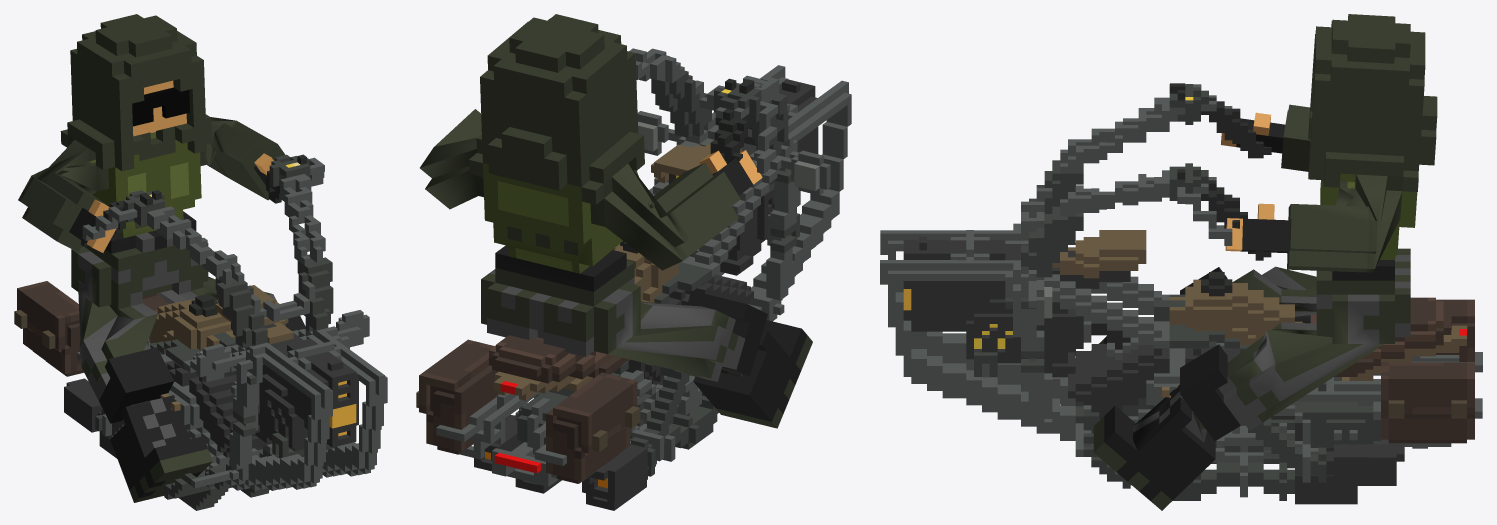
Rendered from OnChopper.obj.
The picture shows the model from 3 angles, left to right: view 1: azimuth 30°, elevation 25°; view 2: azimuth 150°, elevation 25°; view 3: azimuth 270°, elevation 25°; orthographic projection. The views are drawn at different scales.
Visible parts, largest first — view 1: Chopper_Chopper_palette.002, Character-0.002_Character-0.002_palette.003; view 2: Character-0.002_Character-0.002_palette.003, Chopper_Chopper_palette.002; view 3: Chopper_Chopper_palette.002, Character-0.002_Character-0.002_palette.003.
Boxes of the visible parts, x1,y1,x2,y2 form: Chopper_Chopper_palette.002: (14,154,387,510); Character-0.002_Character-0.002_palette.003: (18,14,305,502); Character-0.002_Character-0.002_palette.003: (420,14,812,428); Chopper_Chopper_palette.002: (416,48,851,510); Chopper_Chopper_palette.002: (880,83,1482,504); Character-0.002_Character-0.002_palette.003: (1093,14,1437,510).
Size of the model in its own units: 3.95 by 6.37 by 7.7.
2 materials, 2 textured.
